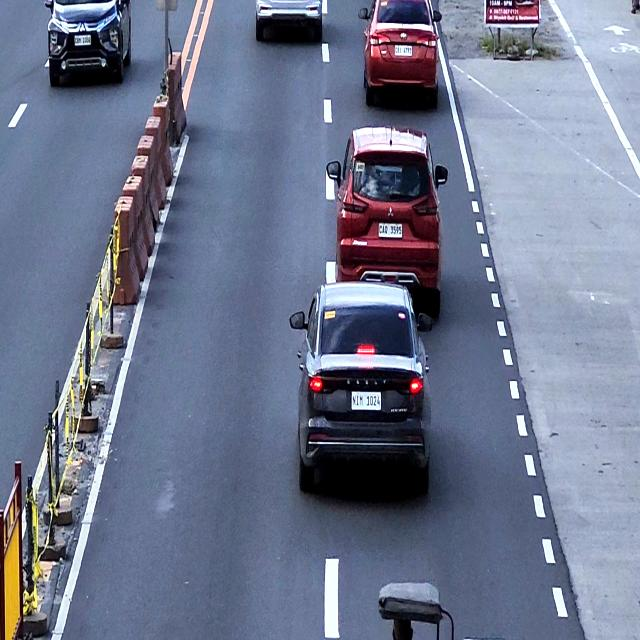Car: (290, 281, 432, 501), (326, 126, 448, 324), (358, 0, 440, 109), (44, 0, 132, 84), (253, 0, 322, 40)
License-Plate: (350, 390, 382, 410), (378, 222, 403, 238), (395, 44, 412, 56), (74, 36, 91, 46)
